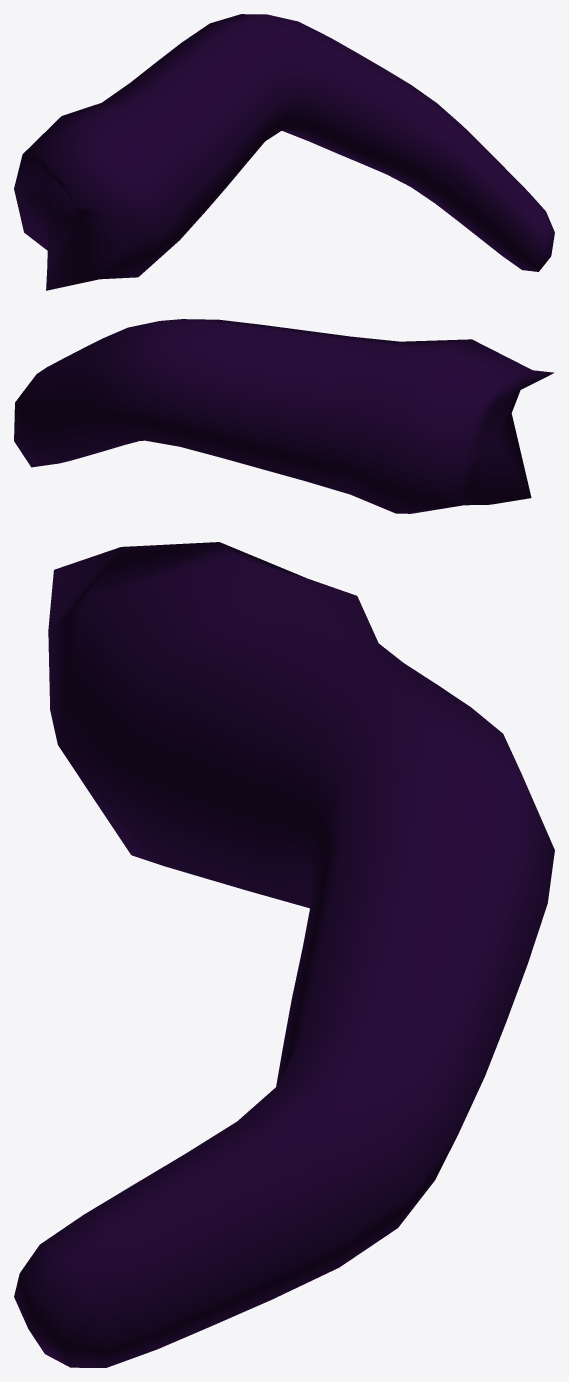
3 renders of one model, top to bottom at view 1: azimuth 30°, elevation 25°; view 2: azimuth 150°, elevation 25°; view 3: azimuth 270°, elevation 25°, orthographic. The views are drawn at different scales.
Parts seen in each view (by area): view 1: Cube.007; view 2: Cube.007; view 3: Cube.007.
Boxes of the visible parts, x1,y1,x2,y2 form: Cube.007: [14, 14, 554, 290]; Cube.007: [14, 319, 554, 513]; Cube.007: [14, 542, 554, 1367].
Size of the model in its own units: 174 by 80.77 by 86.27.
